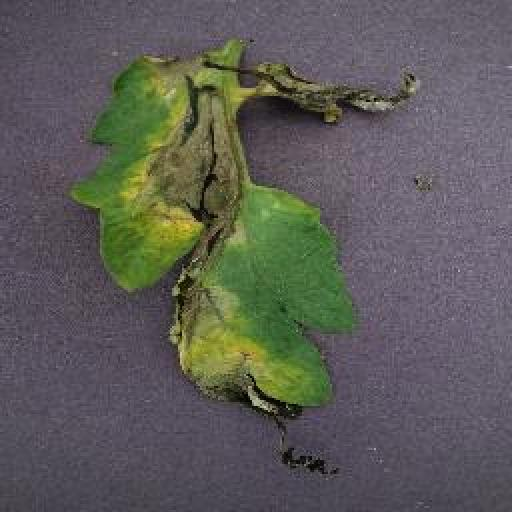disease_tomato: (67, 40, 425, 470)
